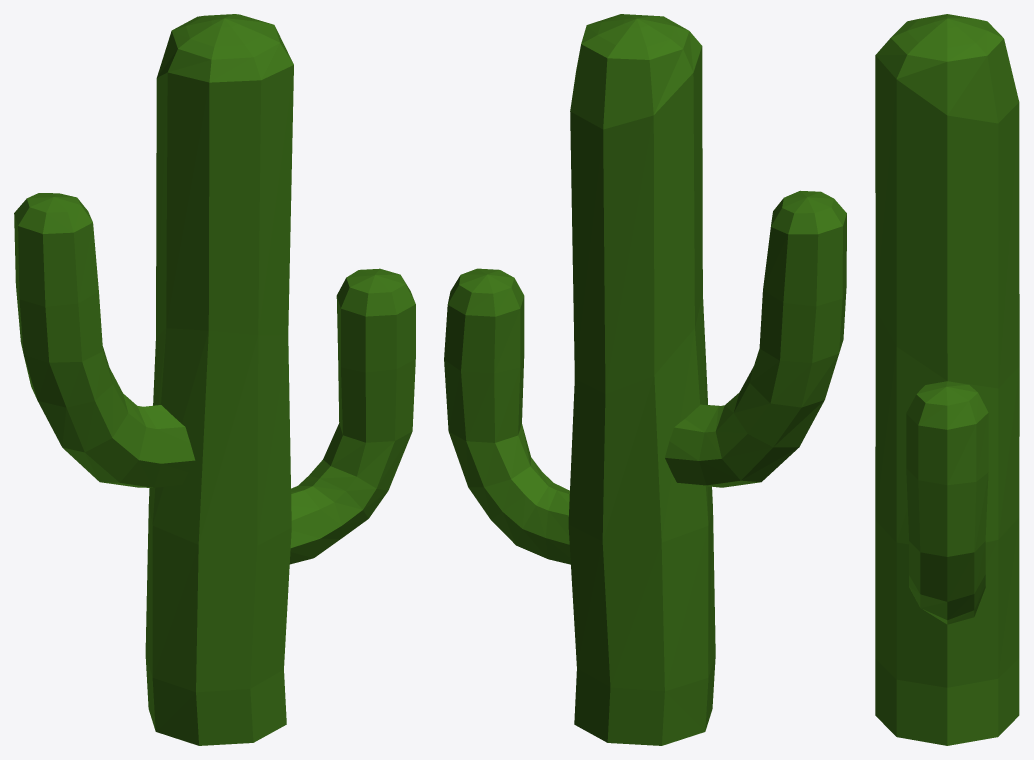
File: Cactus prefab.fbx
3 renders of one model, left to right at view 1: azimuth 30°, elevation 25°; view 2: azimuth 150°, elevation 25°; view 3: azimuth 270°, elevation 25°, orthographic.
Parts seen in each view (by area): view 1: Circle; view 2: Circle; view 3: Circle.
Part boxes in pixels (x1,y1,x2,y2): Circle: (14, 14, 415, 745); Circle: (444, 14, 846, 745); Circle: (875, 14, 1019, 745).
Bounding box in the file's own units: 56.15 × 94.96 × 17.71.
